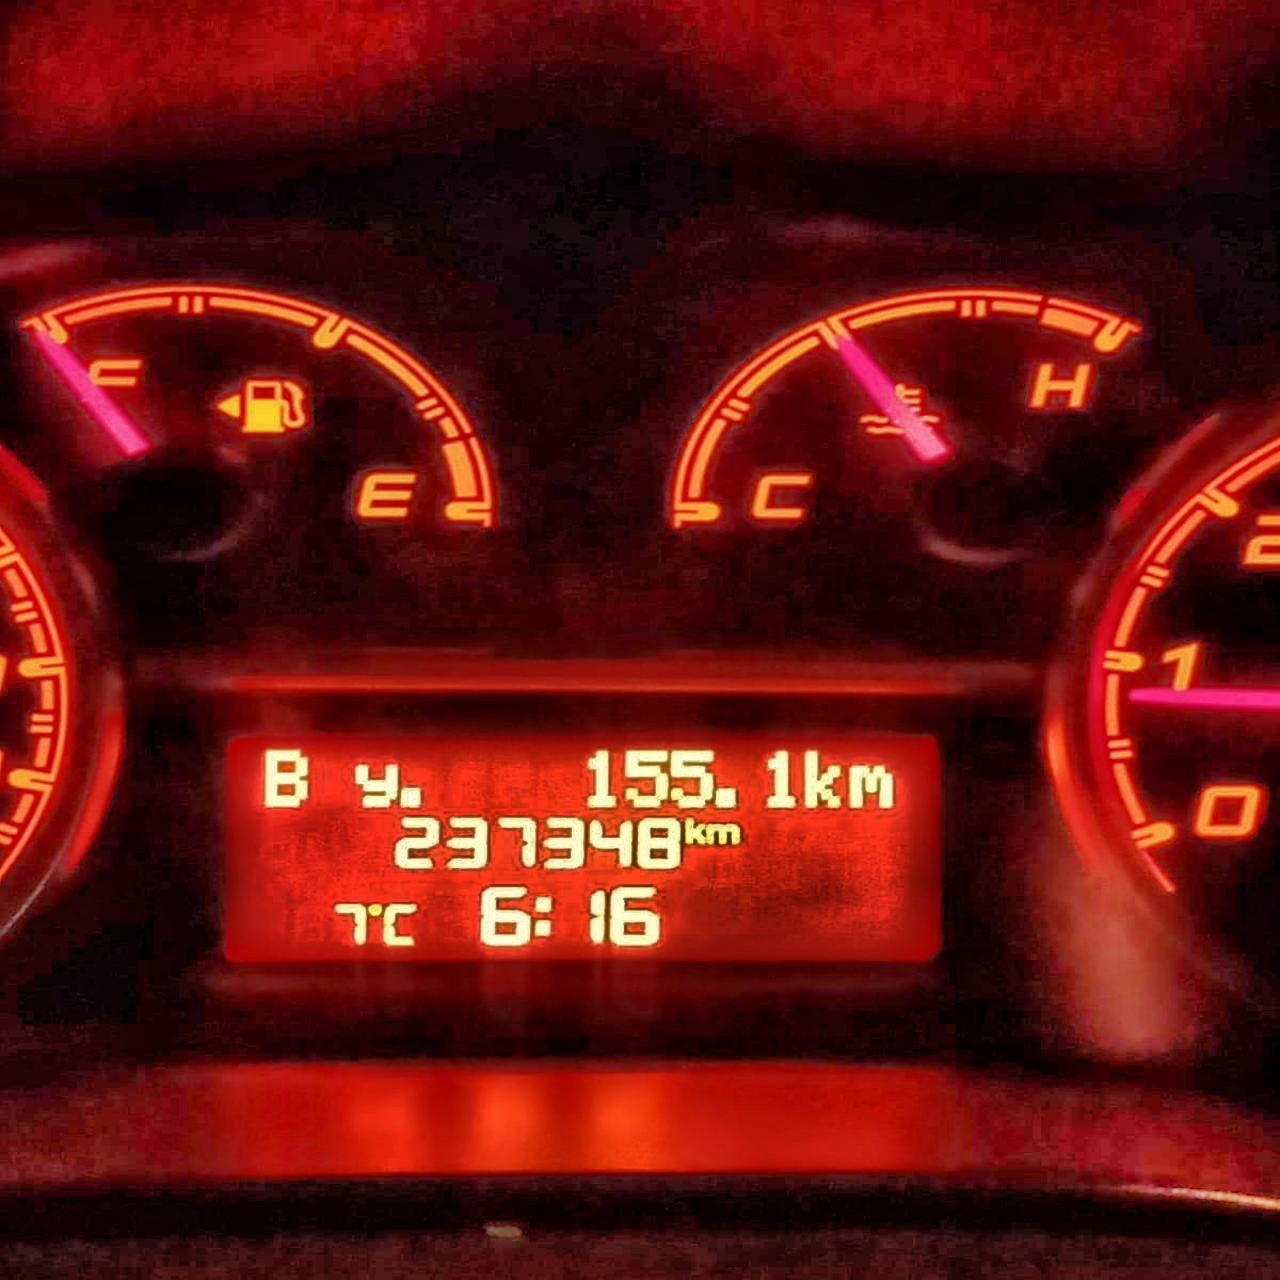-: (396, 785, 423, 809), (713, 785, 737, 809)
1: (585, 747, 618, 808), (763, 748, 796, 809), (587, 888, 607, 946)
2: (392, 815, 441, 869)
3: (538, 816, 586, 870), (443, 816, 490, 870)
4: (586, 818, 635, 867)
5: (667, 748, 714, 808), (622, 748, 668, 808)
6: (476, 885, 532, 947), (607, 885, 662, 946)
7: (496, 816, 538, 867), (332, 903, 368, 946)
8: (633, 816, 682, 870)
X: (260, 747, 311, 810), (801, 748, 842, 810), (846, 763, 896, 809), (352, 762, 399, 808), (380, 901, 418, 946), (532, 894, 553, 935), (706, 822, 741, 845), (682, 816, 706, 845)
odometer: (219, 728, 945, 965)
